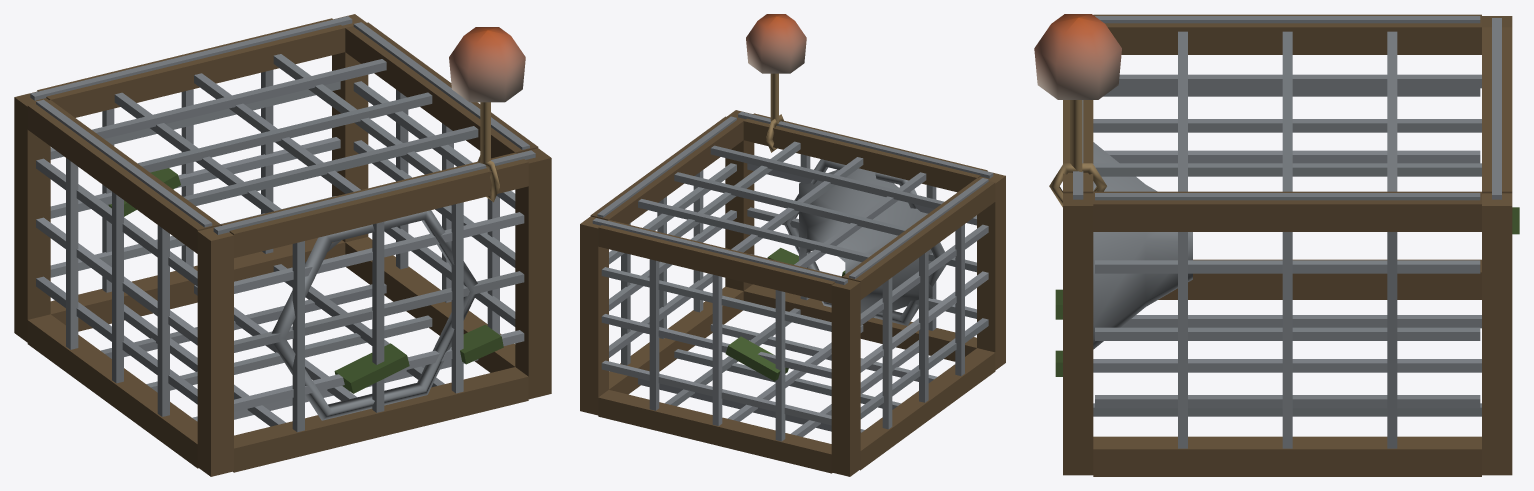
The model's file is crab-trap.glb.
3 renders of one model, left to right at view 1: azimuth 30°, elevation 25°; view 2: azimuth 150°, elevation 25°; view 3: azimuth 270°, elevation 25°, orthographic. The views are drawn at different scales.
Visible parts, largest first — view 1: crab_trap; view 2: crab_trap; view 3: crab_trap.
Boxes of the visible parts, <box> form: crab_trap: <box>14,14,551,476</box>; crab_trap: <box>580,14,1005,476</box>; crab_trap: <box>1034,14,1519,476</box>.
Size of the model in its own units: 0.665 by 0.7025 by 0.7185.
